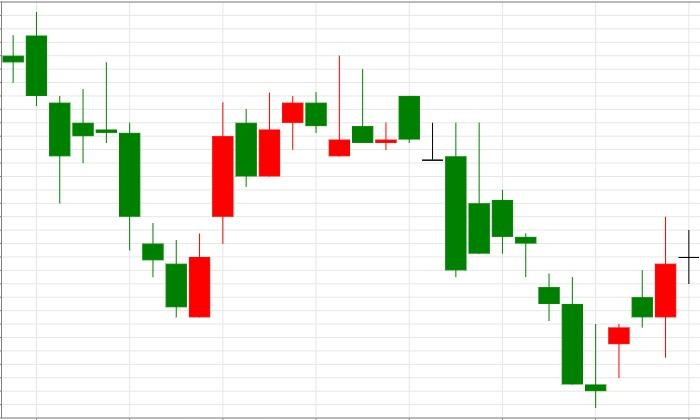bullish_engulfing_rise: (2, 11, 211, 318)
morning_star_rise: (398, 96, 630, 408)
